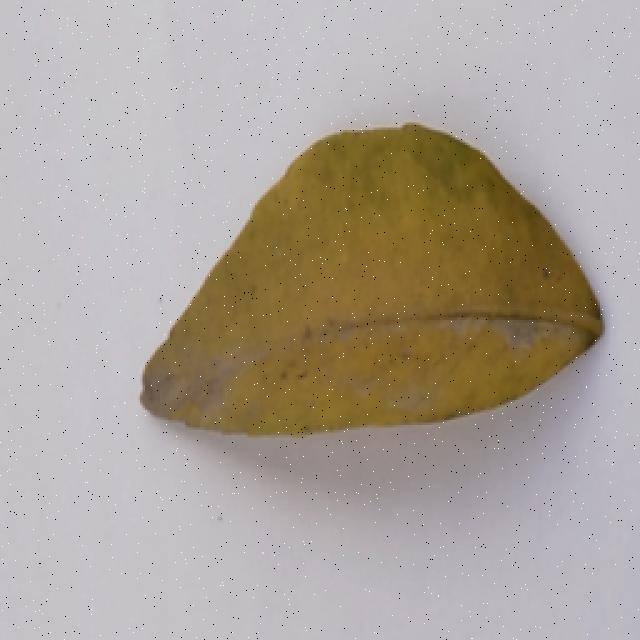blackspot: (133, 110, 608, 450)
